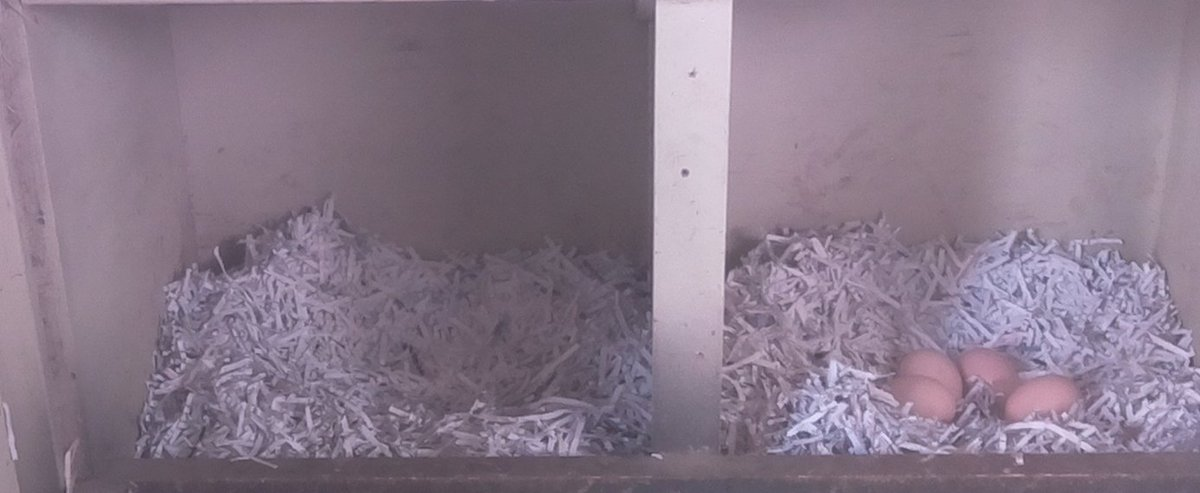egg: (999, 372, 1085, 432), (879, 370, 959, 431), (955, 342, 1021, 409), (892, 345, 964, 400)
